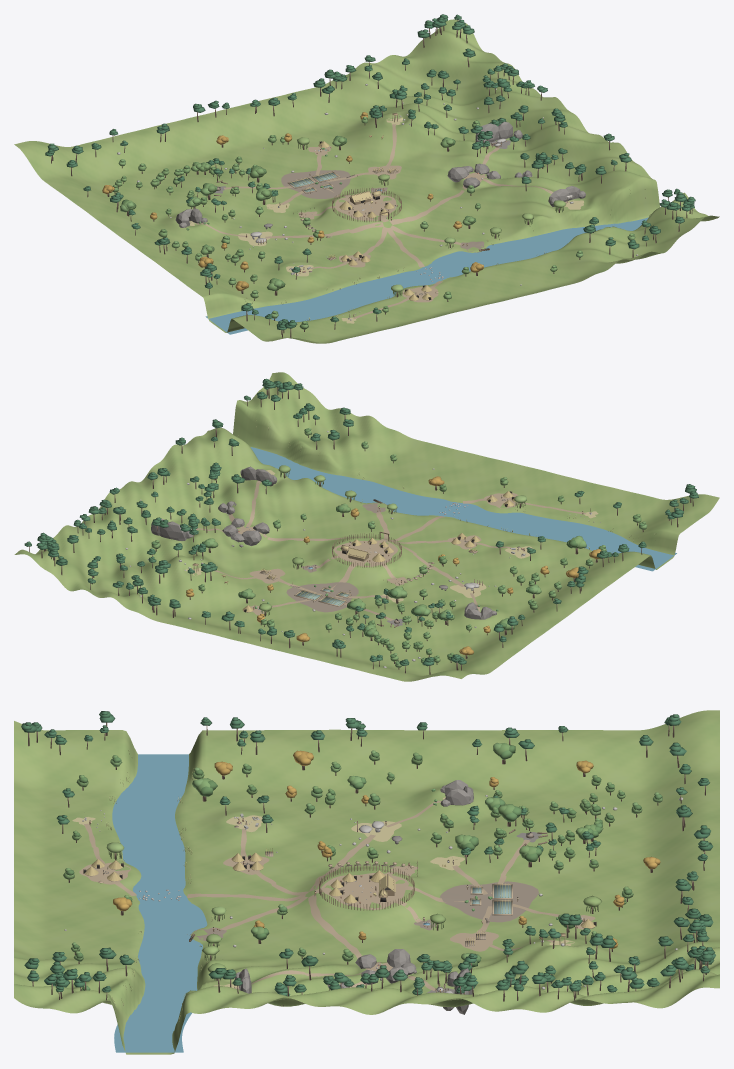
Rendered from bronze.glb.
3 views of the same model, one above another, from view 1: azimuth 30°, elevation 25°; view 2: azimuth 150°, elevation 25°; view 3: azimuth 270°, elevation 25° (orthographic). The views are drawn at different scales.
Visible parts, largest first — view 1: ground, static_pine, river, static_dirt, static_leaf2, static_bark, static_mud, static_leaf_autumn, static_dry, static_leaf, static_willow, static_thatch; view 2: ground, static_pine, river, static_dirt, static_leaf2, static_bark, static_leaf, static_mud, static_leaf_autumn, static_willow, static_dry, static_thatch; view 3: ground, river, static_pine, static_dirt, static_leaf2, static_leaf, static_mud, static_bark, static_leaf_autumn, static_dry, static_thatch, static_willow.
Boxes of the visible parts, left/top/right/bottom form: ground: left=14, top=19, right=719, bottom=343; static_pine: left=45, top=14, right=695, bottom=330; river: left=205, top=217, right=648, bottom=334; static_dirt: left=196, top=124, right=568, bottom=318; static_leaf2: left=112, top=116, right=635, bottom=329; static_bark: left=51, top=20, right=692, bottom=338; static_mud: left=281, top=170, right=484, bottom=272; static_leaf_autumn: left=102, top=112, right=483, bottom=291; static_dry: left=189, top=117, right=650, bottom=323; static_leaf: left=112, top=117, right=634, bottom=324; static_willow: left=297, top=137, right=566, bottom=296; static_thatch: left=318, top=141, right=432, bottom=300; ground: left=14, top=372, right=719, bottom=681; static_pine: left=24, top=378, right=698, bottom=666; river: left=250, top=447, right=676, bottom=571; static_dirt: left=191, top=480, right=585, bottom=620; static_leaf2: left=151, top=428, right=647, bottom=667; static_bark: left=29, top=387, right=693, bottom=674; static_leaf: left=151, top=428, right=644, bottom=664; static_mud: left=286, top=503, right=520, bottom=612; static_leaf_autumn: left=186, top=476, right=601, bottom=655; static_willow: left=259, top=465, right=526, bottom=615; static_dry: left=186, top=426, right=633, bottom=602; static_thatch: left=242, top=491, right=516, bottom=611; ground: left=14, top=710, right=719, bottom=1054; river: left=112, top=754, right=207, bottom=1052; static_pine: left=21, top=711, right=715, bottom=996; static_dirt: left=79, top=800, right=595, bottom=990; static_leaf2: left=63, top=742, right=662, bottom=990; static_leaf: left=66, top=744, right=662, bottom=990; static_mud: left=190, top=825, right=538, bottom=940; static_bark: left=28, top=722, right=708, bottom=1006; static_leaf_autumn: left=113, top=750, right=660, bottom=948; static_dry: left=72, top=753, right=574, bottom=1019; static_thatch: left=84, top=852, right=595, bottom=928; static_willow: left=106, top=842, right=601, bottom=980.
Bounding box in the file's own units: 260 × 36.55 × 260.
